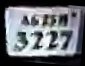character: (13, 30, 28, 52), (29, 30, 44, 50), (44, 29, 59, 49), (59, 29, 73, 50)
